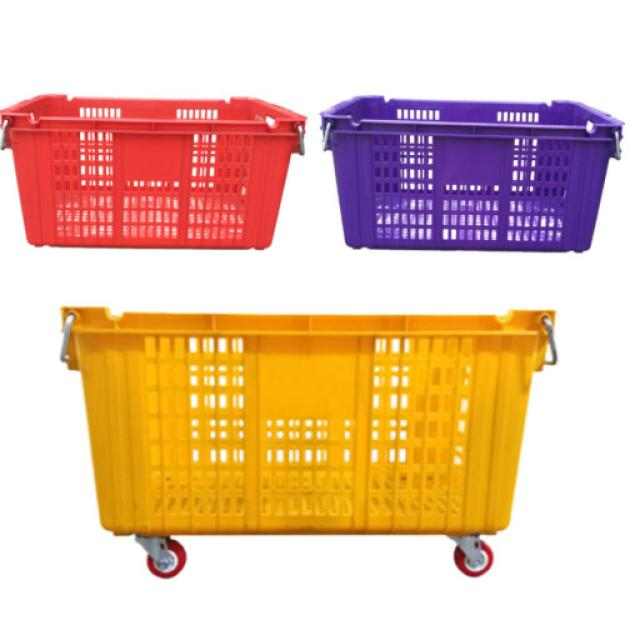basket: (60, 308, 555, 539), (319, 95, 624, 253), (0, 94, 307, 249)
